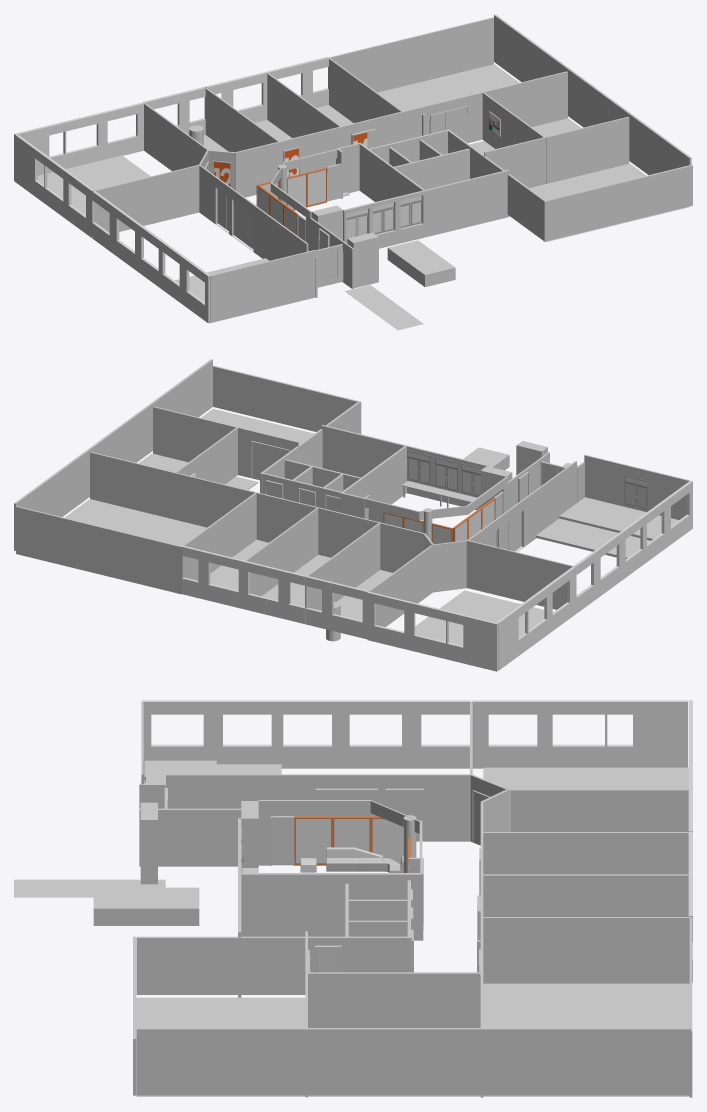
Rendered from 1st_floor.fbx.
The picture shows the model from 3 angles, top to bottom: view 1: azimuth 30°, elevation 25°; view 2: azimuth 150°, elevation 25°; view 3: azimuth 270°, elevation 25°; orthographic projection. The views are drawn at different scales.
Visible parts, largest first — view 1: door2.006, door2.031, door2.020, door2.032, door2.017, door2.044, door2.002, door2.011, Cube.054, door2.001, Cube.053, salle_11.005 (+34 smaller); view 2: door2.006, door2.020, door2.031, door2.032, Cube.054, door2.002, door2.017, door2.044, door2.001, Cube.053, salle_11.005, door2.008 (+36 smaller); view 3: door2.031, door2.009, door2.026, Cube.053, salle_11.005, door2.010, door2.001, Cube.004, door2.023, door2.007, door2.008, door2.003 (+23 smaller).
Part boxes in pixels (left/top/right/bottom): door2.006: left=235, top=71, right=567, bottom=197; door2.031: left=494, top=14, right=691, bottom=174; door2.020: left=329, top=17, right=493, bottom=92; door2.032: left=543, top=164, right=692, bottom=241; door2.017: left=343, top=170, right=509, bottom=248; door2.044: left=210, top=250, right=316, bottom=322; door2.002: left=94, top=165, right=199, bottom=232; door2.011: left=545, top=117, right=629, bottom=183; Cube.054: left=14, top=102, right=144, bottom=181; door2.001: left=198, top=164, right=308, bottom=260; Cube.053: left=15, top=134, right=94, bottom=237; salle_11.005: left=378, top=64, right=519, bottom=111; door2.006: left=90, top=452, right=424, bottom=572; door2.020: left=16, top=506, right=181, bottom=594; door2.031: left=14, top=359, right=212, bottom=550; door2.032: left=213, top=365, right=361, bottom=433; Cube.054: left=367, top=591, right=498, bottom=671; door2.002: left=467, top=540, right=574, bottom=609; door2.017: left=321, top=425, right=488, bottom=510; door2.044: left=584, top=454, right=690, bottom=519; door2.001: left=466, top=461, right=576, bottom=588; Cube.053: left=496, top=566, right=575, bottom=670; salle_11.005: left=64, top=499, right=206, bottom=546; door2.008: left=245, top=508, right=318, bottom=596; door2.031: left=136, top=1028, right=690, bottom=1095; door2.009: left=483, top=917, right=691, bottom=983; door2.026: left=136, top=936, right=411, bottom=994; Cube.053: left=471, top=700, right=687, bottom=768; salle_11.005: left=483, top=983, right=689, bottom=1096; door2.010: left=306, top=972, right=480, bottom=1027; door2.001: left=166, top=774, right=473, bottom=841; Cube.004: left=271, top=700, right=470, bottom=768; door2.023: left=240, top=873, right=420, bottom=940; door2.007: left=481, top=832, right=688, bottom=874; door2.008: left=482, top=874, right=688, bottom=916; door2.003: left=510, top=789, right=688, bottom=831.
Size of the model in its own units: 30.38 by 3.94 by 26.21.
Materials: 10 (4 with a texture image).
